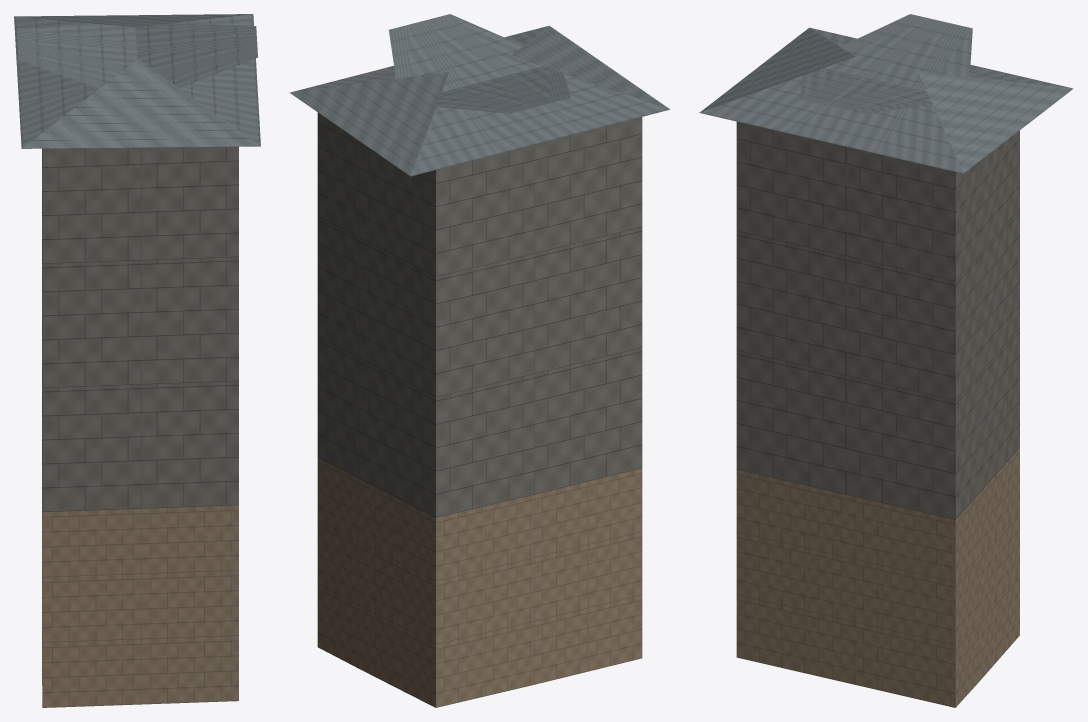
File: bld_c9_15_455.gltf
3 renders of one model, left to right at view 1: azimuth 30°, elevation 25°; view 2: azimuth 150°, elevation 25°; view 3: azimuth 270°, elevation 25°, orthographic. The views are drawn at different scales.
Visible parts, largest first — view 1: bld_c9_15_455; view 2: bld_c9_15_455; view 3: bld_c9_15_455.
Boxes of the visible parts, x1,y1,x2,y2 form: bld_c9_15_455: [14, 14, 260, 707]; bld_c9_15_455: [290, 14, 669, 707]; bld_c9_15_455: [699, 14, 1073, 707].
Bounding box in the file's own units: 8.51 × 15.8 × 9.21.
Materials: 3 (3 with a texture image).
